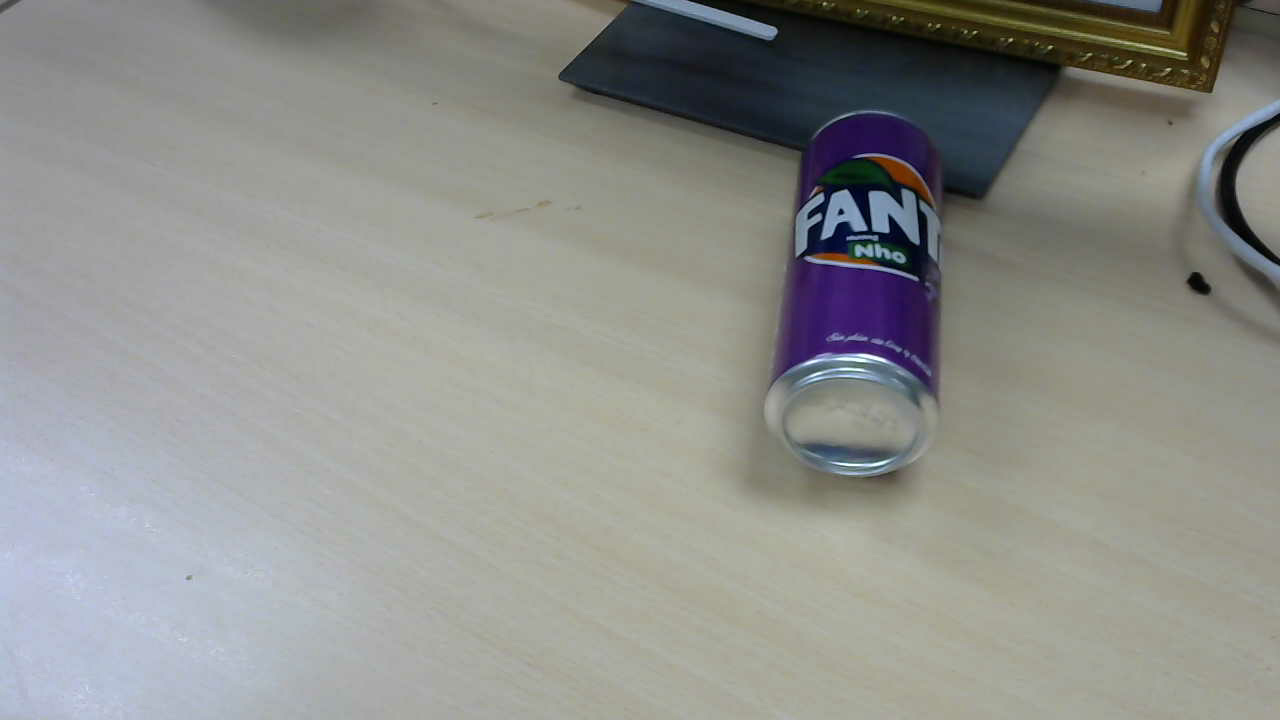Fanta: (766, 116, 952, 483)
